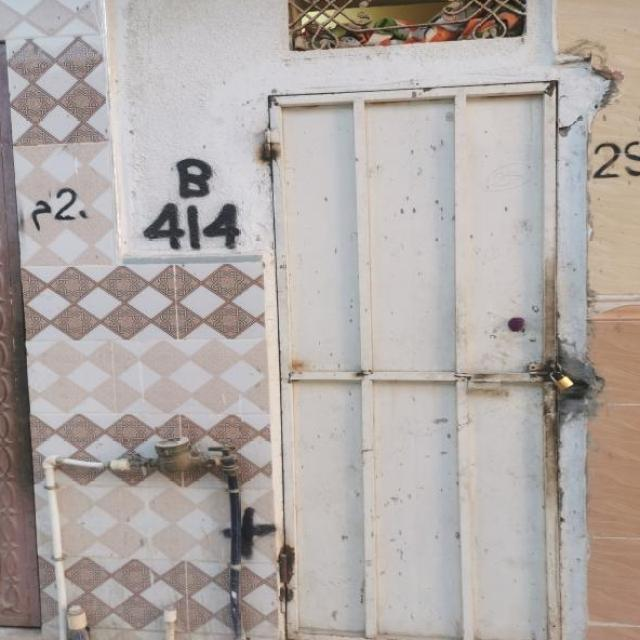door: (268, 80, 558, 639)
